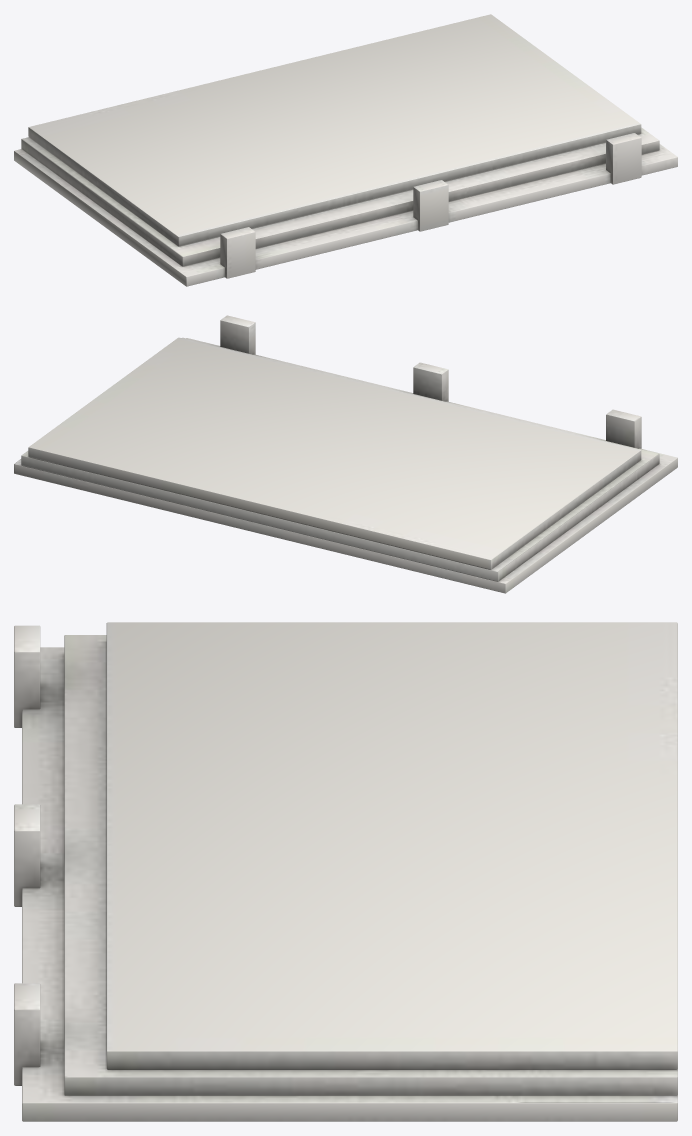
Rendered from cornisa_deco.glb.
3 renders of one model, top to bottom at view 1: azimuth 30°, elevation 25°; view 2: azimuth 150°, elevation 25°; view 3: azimuth 270°, elevation 25°, orthographic. The views are drawn at different scales.
Visible parts, largest first — view 1: cornisa_deco; view 2: cornisa_deco; view 3: cornisa_deco.
Part boxes in pixels (left/top/right/bottom): cornisa_deco: left=14, top=14, right=677, bottom=286; cornisa_deco: left=14, top=315, right=677, bottom=593; cornisa_deco: left=14, top=622, right=677, bottom=1121.
Size of the model in its own units: 20.4 by 1.6 by 12.55.
1 material, 1 textured.
